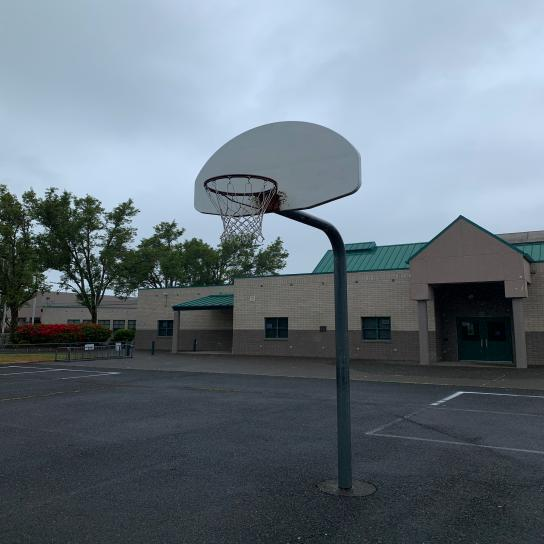basketball-hoop: (202, 173, 280, 245)
